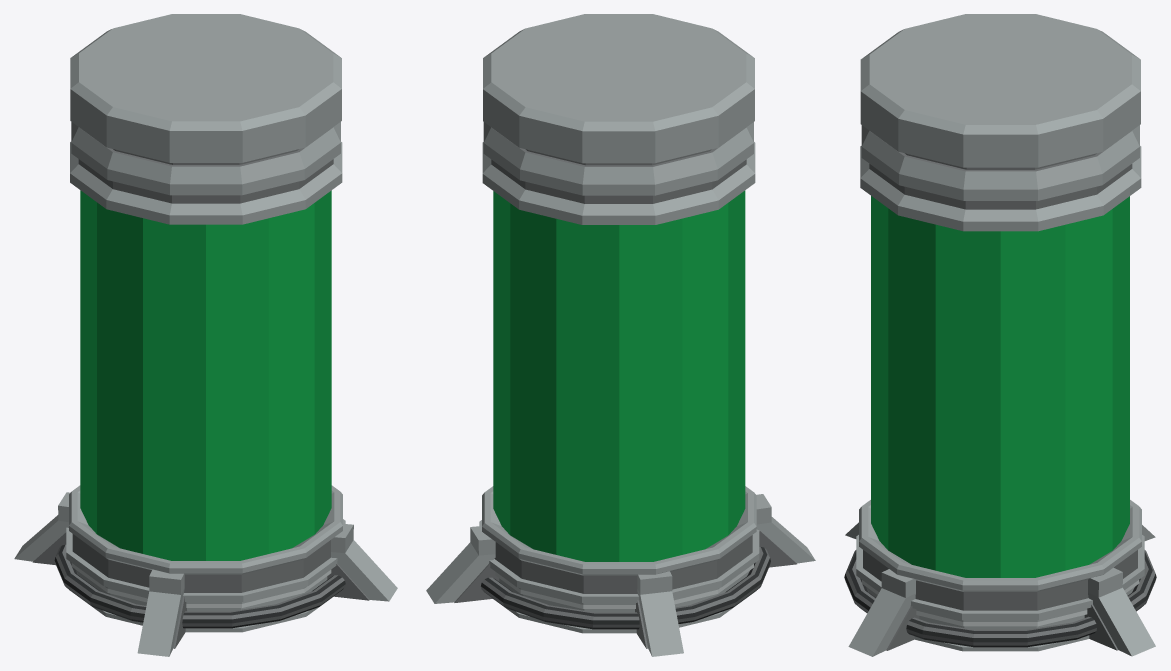
File: glass_capsule_0505 1.fbx
3 views of the same model, side by side, from view 1: azimuth 30°, elevation 25°; view 2: azimuth 150°, elevation 25°; view 3: azimuth 270°, elevation 25° (orthographic). The views are drawn at different scales.
Visible parts, largest first — view 1: Cylinder001; view 2: Cylinder001; view 3: Cylinder001.
Part boxes in pixels (x1,y1,x2,y2): Cylinder001: [14, 14, 397, 656]; Cylinder001: [426, 14, 815, 656]; Cylinder001: [844, 14, 1156, 656].
Bounding box in the file's own units: 179 × 331 × 179.
3 materials, 1 textured.
